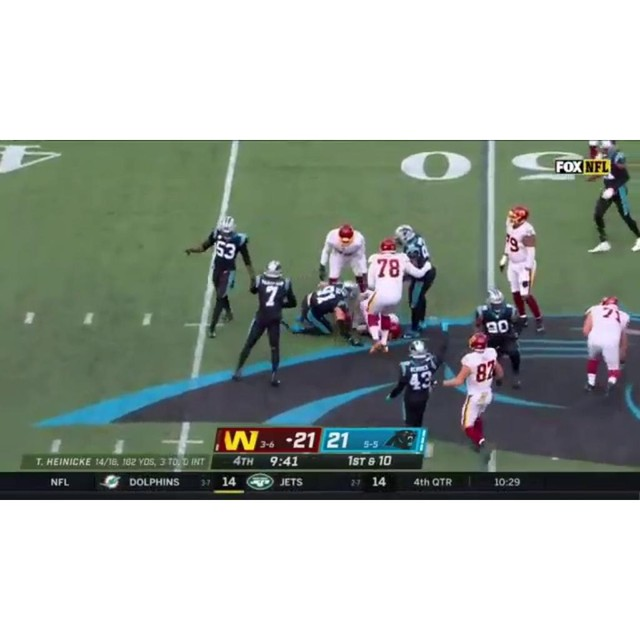american-football-player: (186, 218, 253, 337), (232, 260, 295, 386), (443, 331, 503, 455), (499, 205, 545, 332), (588, 142, 640, 254), (362, 235, 408, 355), (471, 285, 524, 387), (582, 298, 631, 395), (394, 224, 437, 331), (387, 339, 439, 427), (318, 224, 369, 298), (298, 284, 353, 339)
